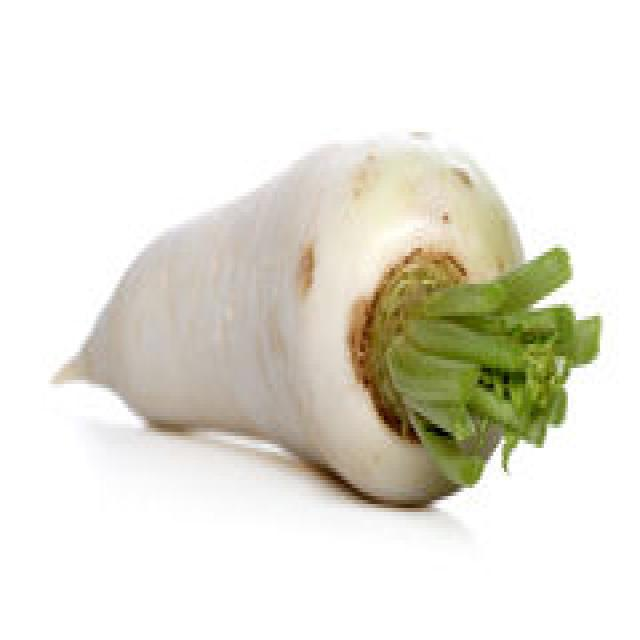Radish: (56, 139, 599, 503)
